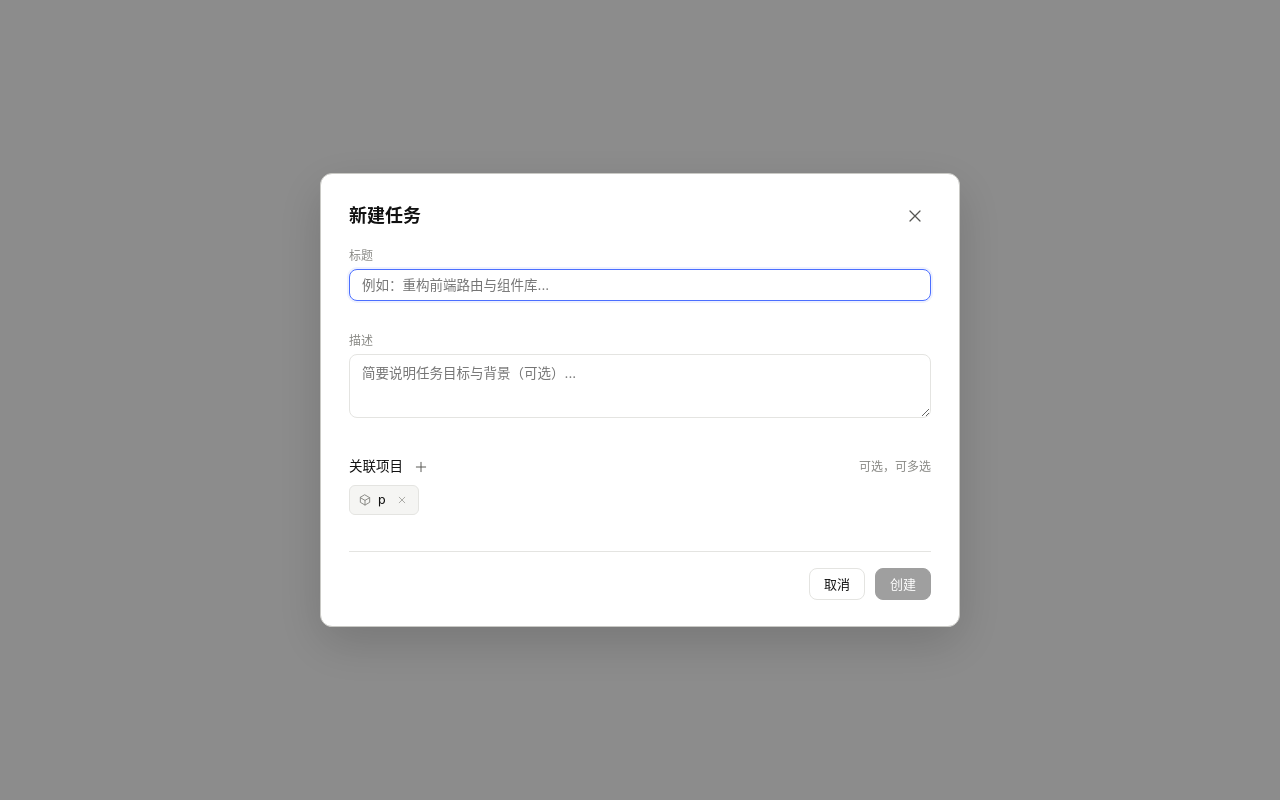
Test: keeps failed saves open with actionable error
Type "任务" into the field labelled "标题" at x=640, y=285, box [349, 269, 931, 301]
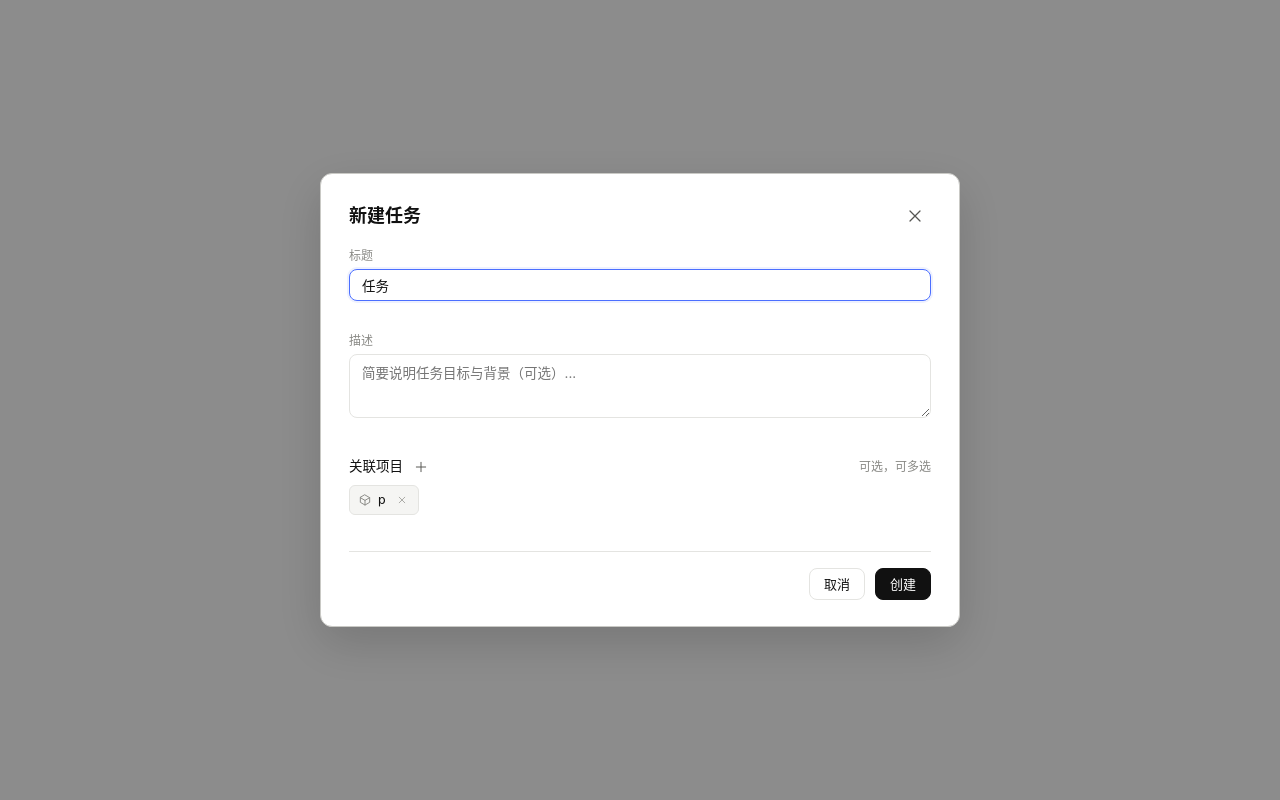
Submit the form "标题", box [349, 246, 931, 600]
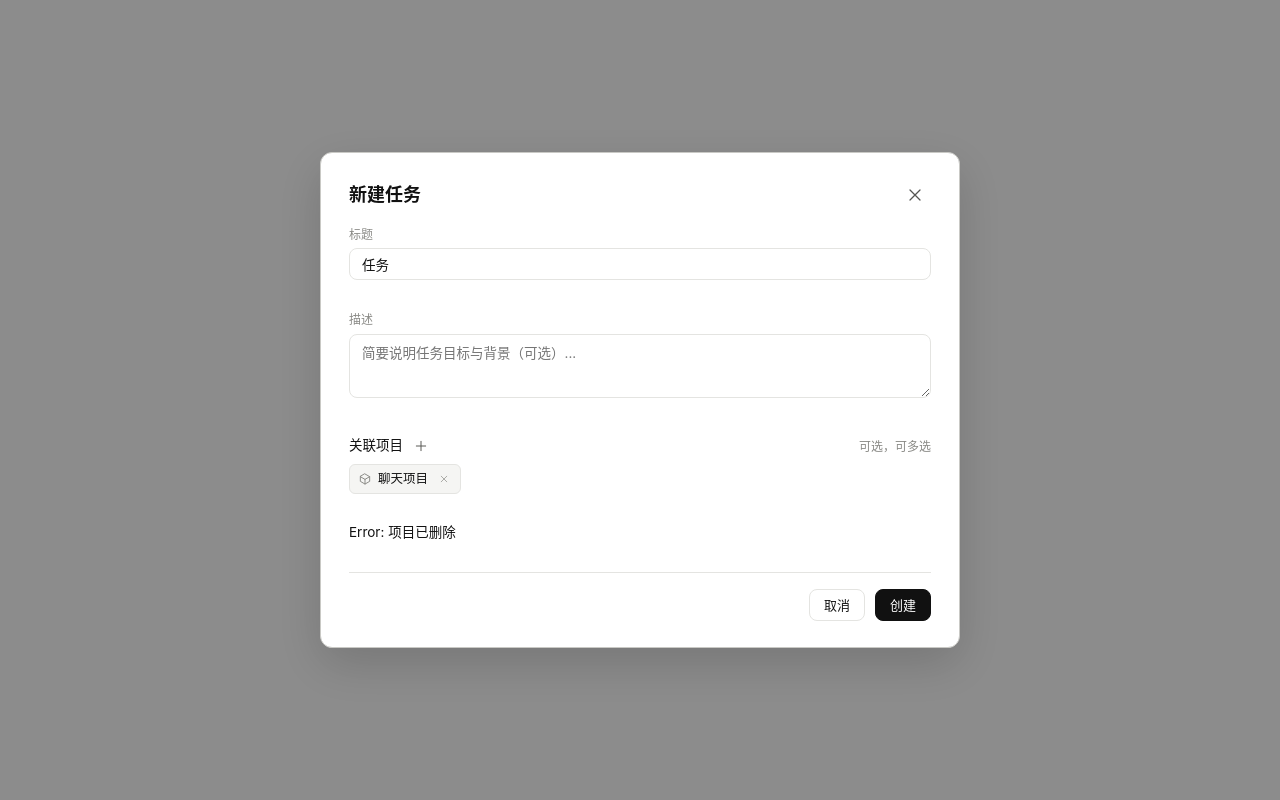
Expected: the dialog is shown, [320, 152, 960, 648]
Result: the message shows "项目已删除" at [349, 524, 456, 540]
